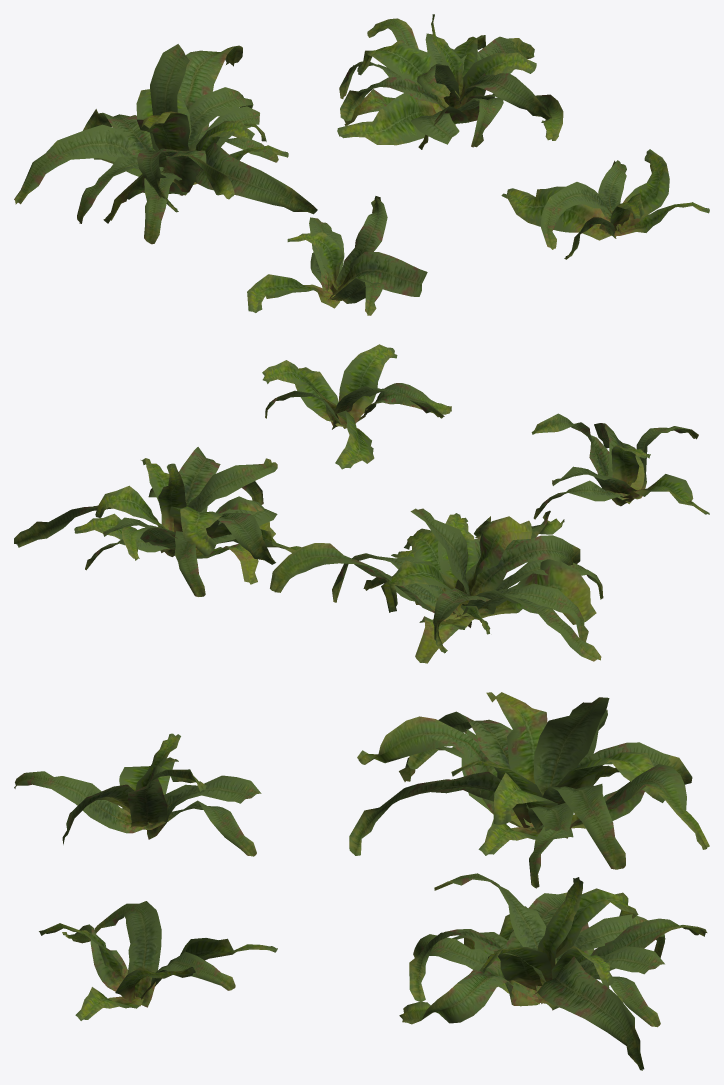
The model's file is fern_02.glb.
3 views of the same model, one above another, from view 1: azimuth 30°, elevation 25°; view 2: azimuth 150°, elevation 25°; view 3: azimuth 270°, elevation 25° (orthographic). The views are drawn at different scales.
Parts seen in each view (by area): view 1: fern_02_b, fern_02_c, fern_02_d, fern_02_a; view 2: fern_02_b, fern_02_c, fern_02_d, fern_02_a; view 3: fern_02_b, fern_02_c, fern_02_a, fern_02_d.
Part boxes in pixels (<box>): fern_02_b: <box>14,44,317,244</box>; fern_02_c: <box>337,14,563,149</box>; fern_02_d: <box>501,149,709,259</box>; fern_02_a: <box>247,196,427,315</box>; fern_02_b: <box>270,508,603,663</box>; fern_02_c: <box>14,447,301,596</box>; fern_02_d: <box>262,344,451,469</box>; fern_02_a: <box>531,413,709,519</box>; fern_02_b: <box>349,692,709,888</box>; fern_02_c: <box>399,873,707,1070</box>; fern_02_a: <box>14,733,261,856</box>; fern_02_d: <box>39,901,277,1020</box>.
Size of the model in its own units: 1.97 by 0.4277 by 1.72.
Materials: 1 (1 with a texture image).
